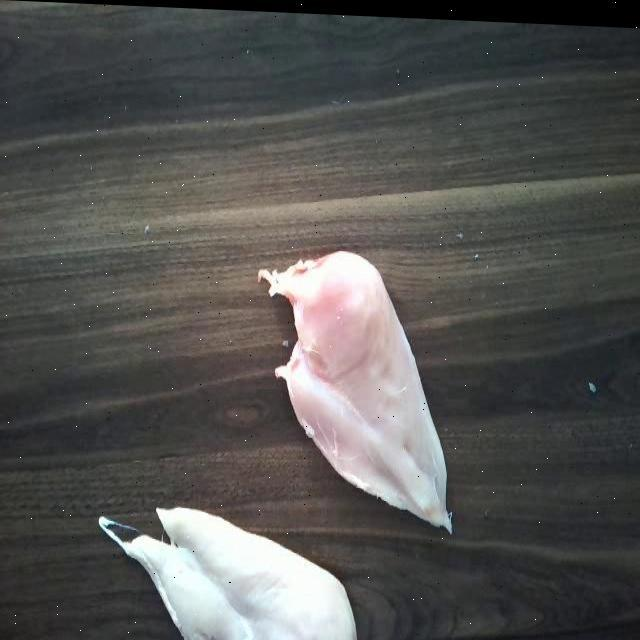breast: (277, 244, 453, 526), (129, 487, 358, 640)
